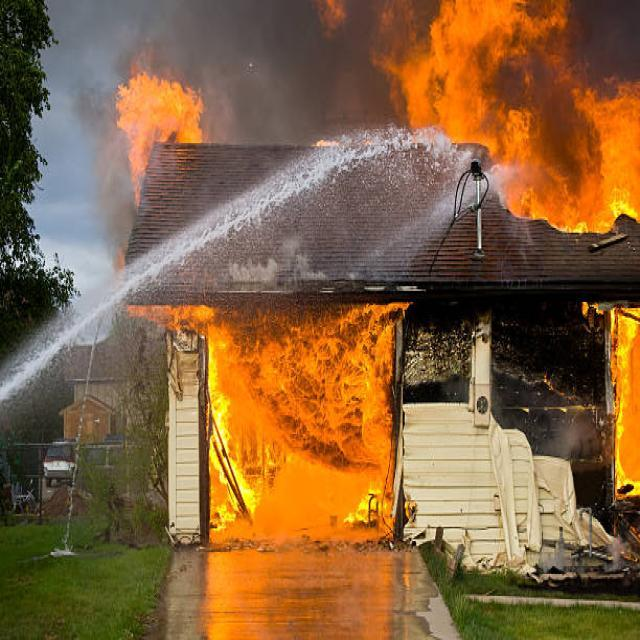Fire: (400, 0, 640, 229), (190, 302, 387, 520), (121, 65, 231, 182), (609, 300, 640, 514)
Smoke: (114, 0, 447, 134)
